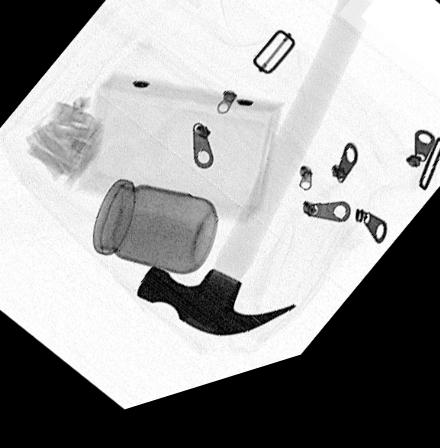Hammer: (136, 5, 376, 348)
